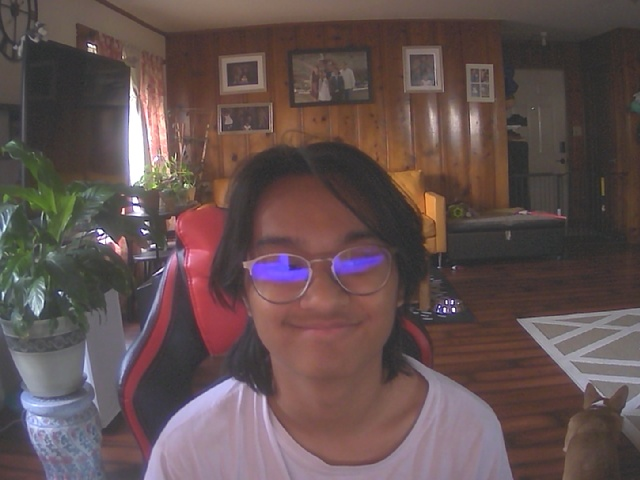happy: (238, 149, 412, 382)
